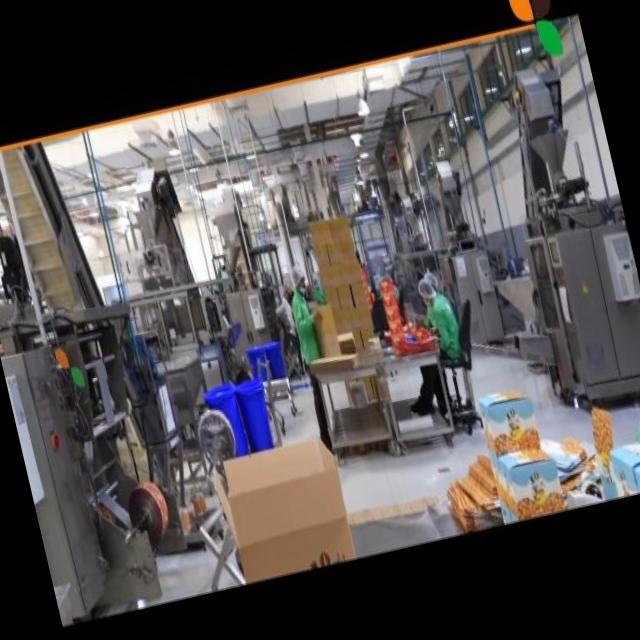hairnet: (414, 272, 437, 301), (292, 264, 309, 290)
